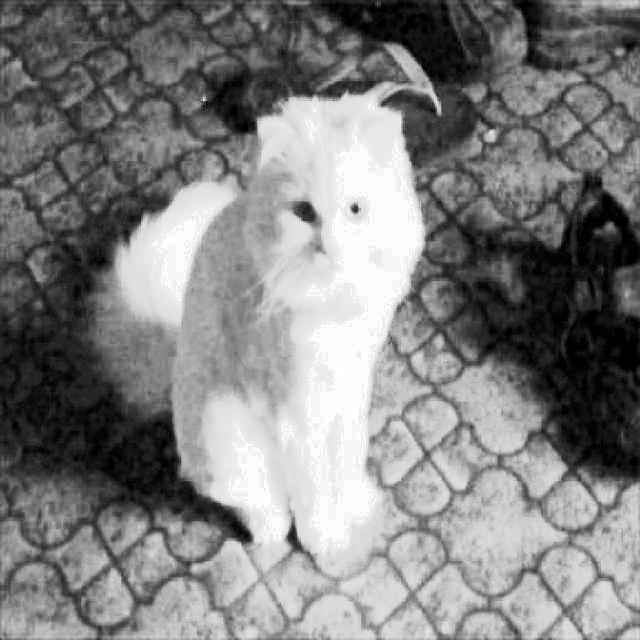Cat: (84, 81, 435, 555)
